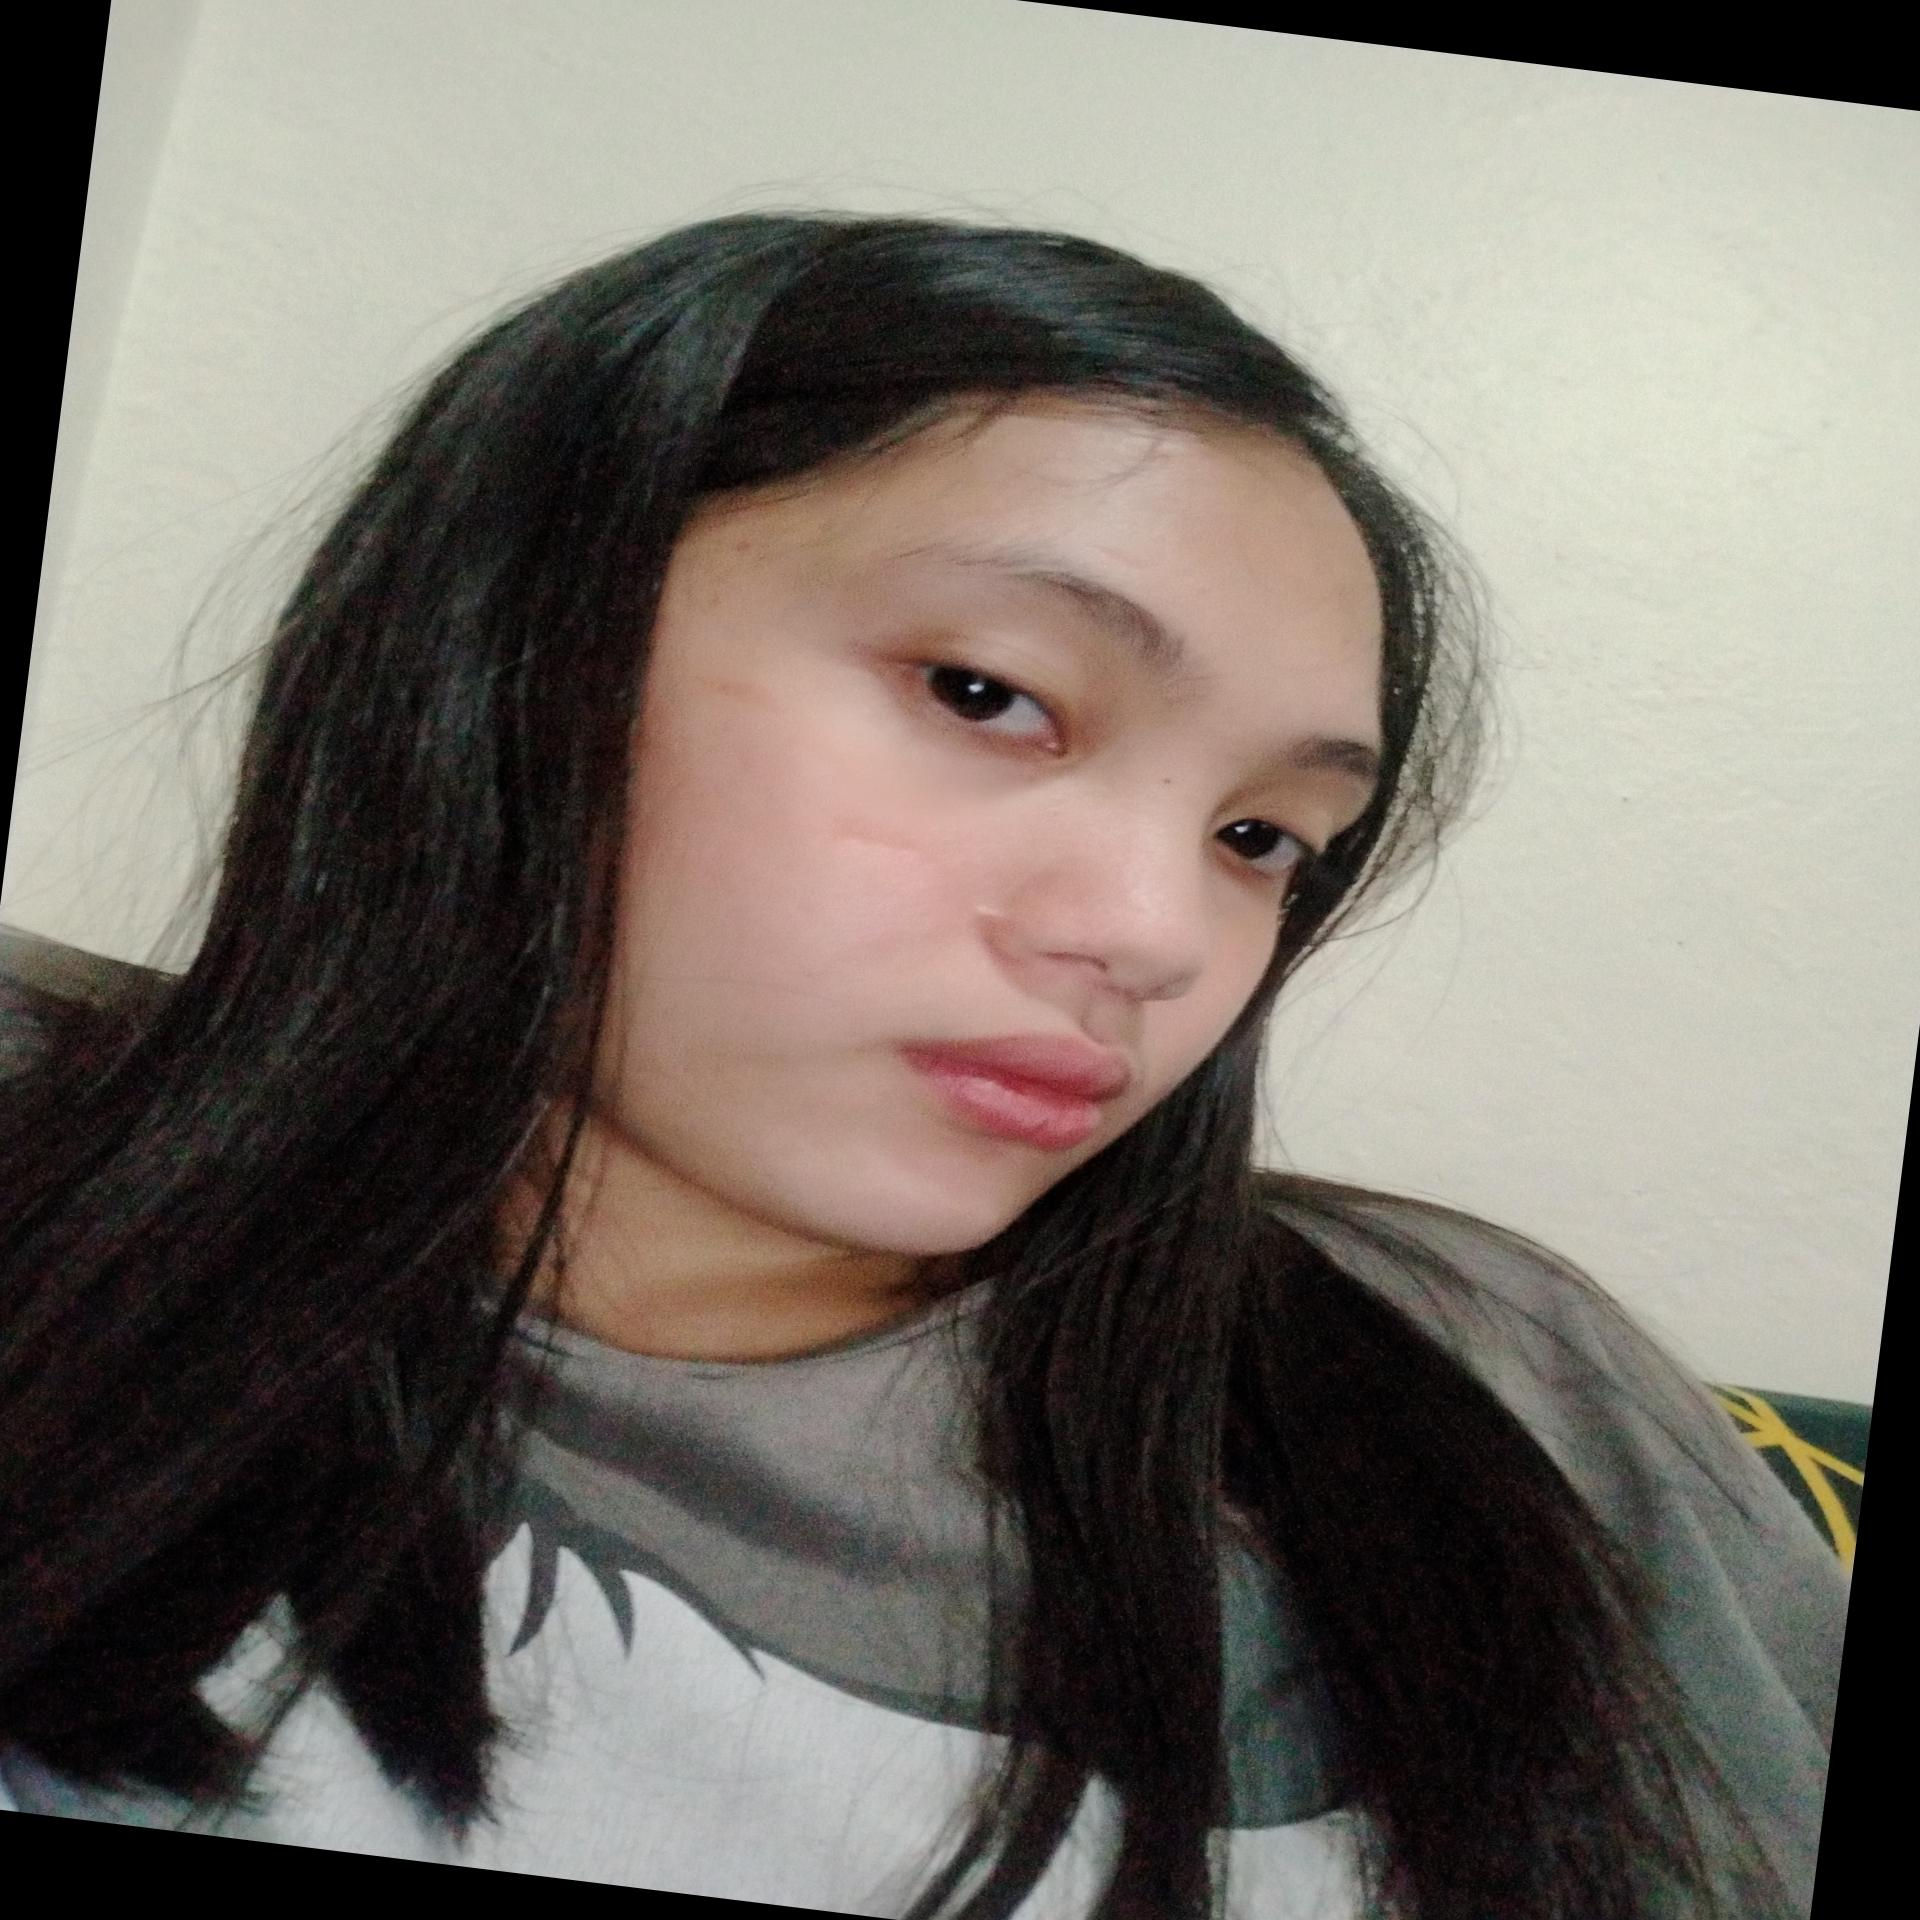Acne: (687, 663, 798, 714), (673, 578, 731, 607), (724, 531, 760, 557)
